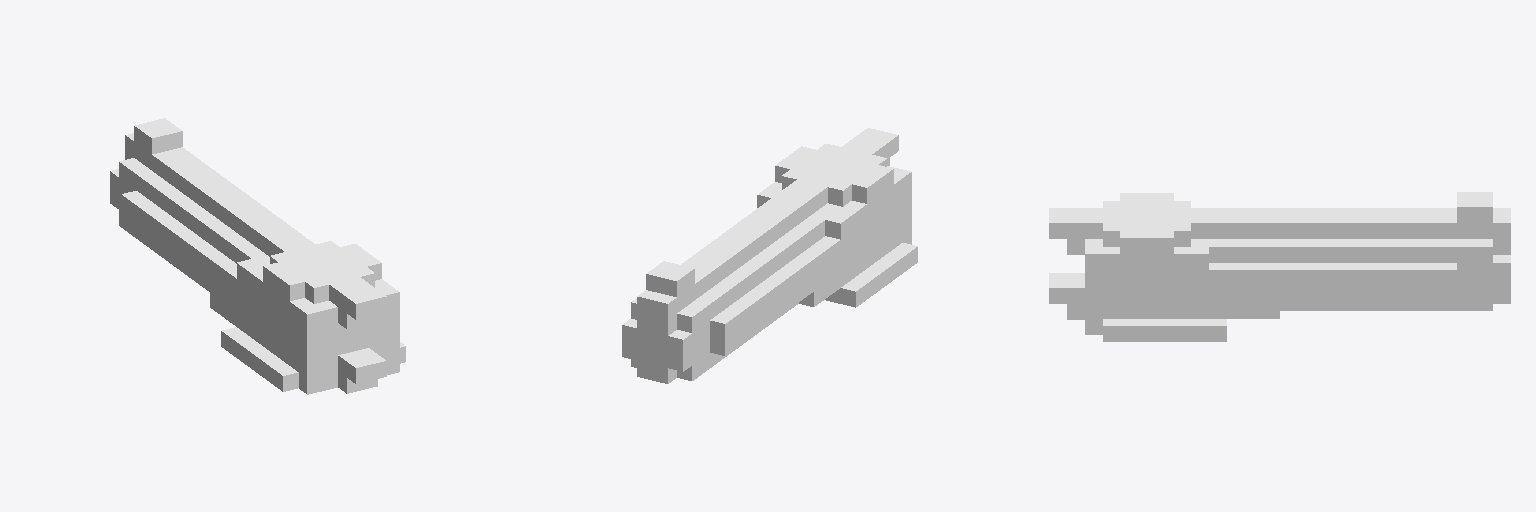
Rendered from M1911Barrel.obj.
3 renders of one model, left to right at view 1: azimuth 30°, elevation 25°; view 2: azimuth 150°, elevation 25°; view 3: azimuth 270°, elevation 25°, orthographic.
Visible parts, largest first — view 1: object 1; view 2: object 1; view 3: object 1.
Boxes of the visible parts, <box> form: object 1: <box>110,118,405,394</box>; object 1: <box>622,128,917,383</box>; object 1: <box>1049,192,1510,341</box>.
Size of the model in its own units: 0.8 by 0.7 by 2.6.